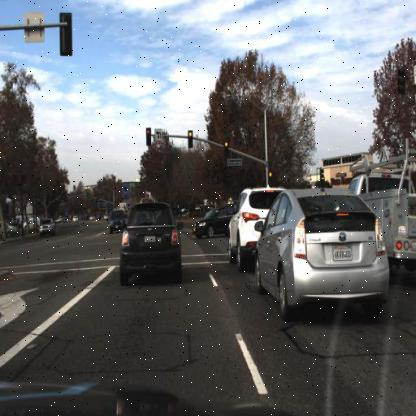car: (254, 184, 391, 318), (348, 146, 415, 264), (223, 184, 286, 276), (116, 199, 181, 287), (118, 197, 184, 278), (226, 187, 274, 270), (190, 201, 237, 237), (38, 215, 56, 240), (108, 209, 125, 235), (110, 208, 124, 235), (39, 218, 57, 236)
trafficLight: (267, 166, 273, 182)
trafficLight-Red: (186, 126, 194, 152), (222, 139, 231, 162), (186, 127, 193, 152), (223, 137, 230, 162), (266, 168, 274, 184)
trafficLight-RedLeft: (144, 125, 153, 150), (144, 126, 152, 150)
